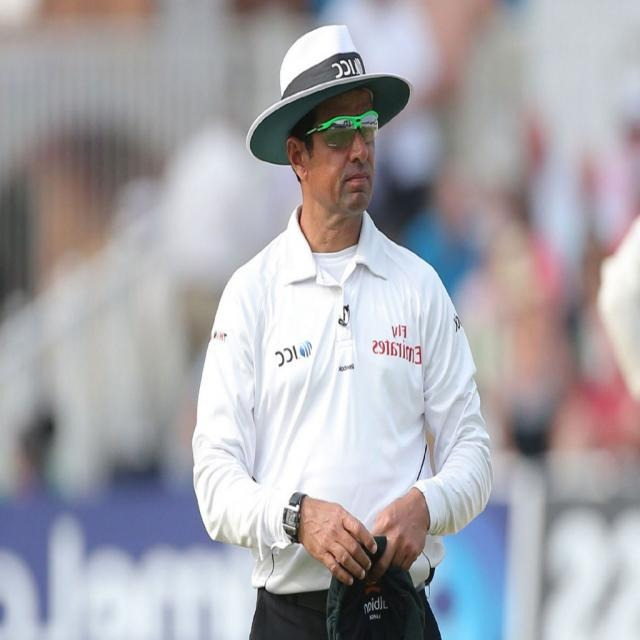No_Action: (177, 4, 497, 640)
